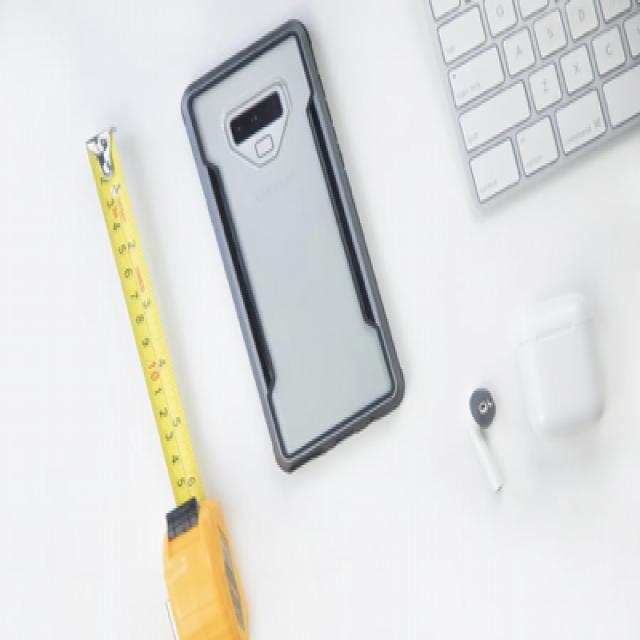cellphone: (179, 17, 405, 472)
